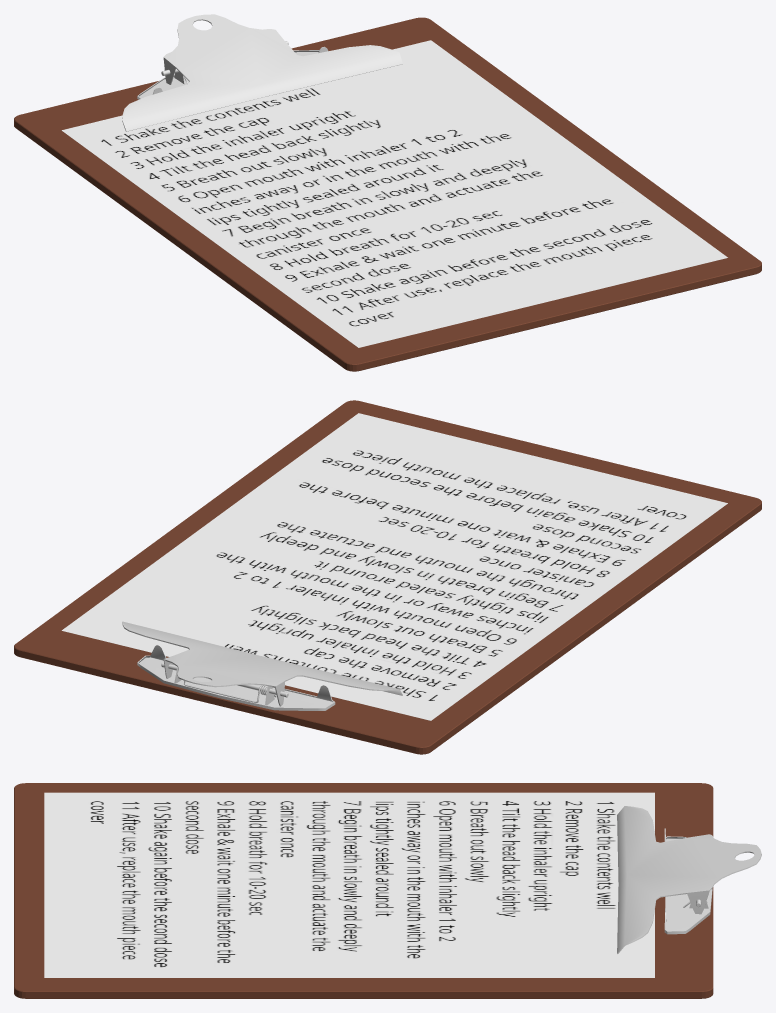
Rendered from clipboard-transformed.glb.
The picture shows the model from 3 angles, top to bottom: view 1: azimuth 30°, elevation 25°; view 2: azimuth 150°, elevation 25°; view 3: azimuth 270°, elevation 25°; orthographic projection. The views are drawn at different scales.
Parts seen in each view (by area): view 1: page.001, board_1.001; view 2: page.001, board_1.001; view 3: page.001, board_1.001.
Part boxes in pixels (x1=…): page.001: x1=61, y1=40, x2=727, y2=347; board_1.001: x1=14, y1=14, x2=761, y2=371; page.001: x1=61, y1=413, x2=727, y2=720; board_1.001: x1=14, y1=400, x2=761, y2=754; page.001: x1=44, y1=792, x2=654, y2=977; board_1.001: x1=14, y1=783, x2=761, y2=998.
Bounding box in the file's own units: 0.8912 × 0.0826 × 1.35.
3 materials, 1 textured.
